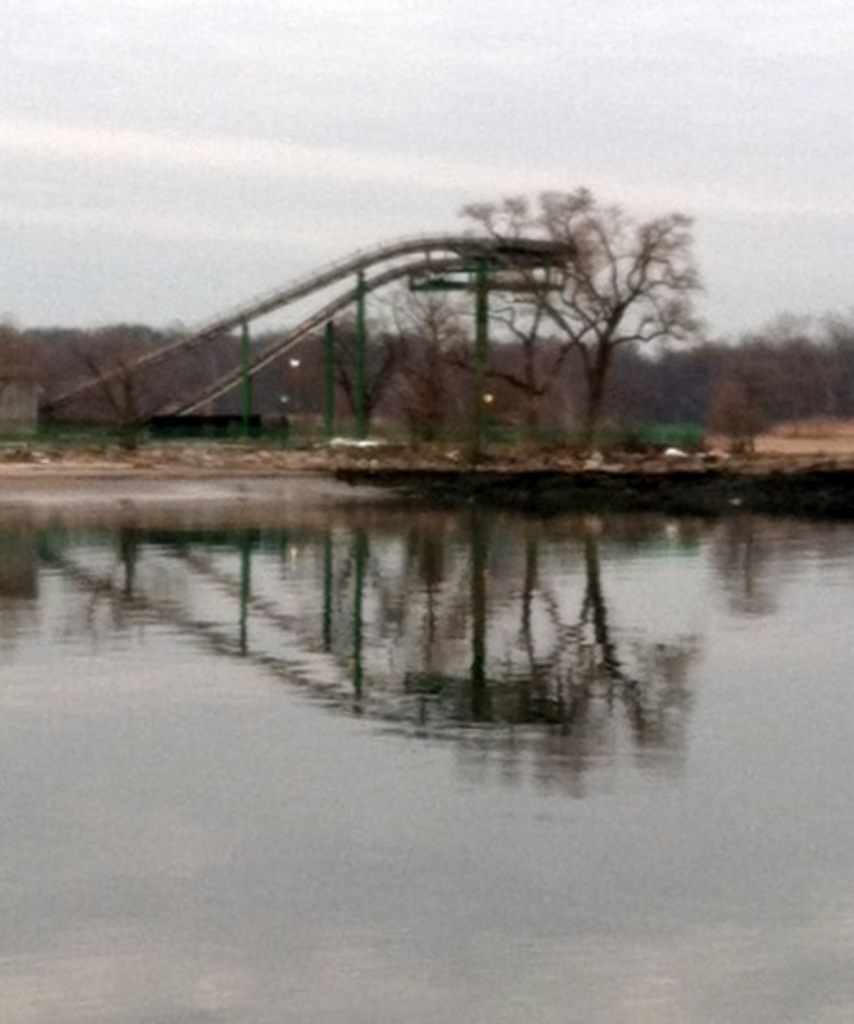Tree: (331, 163, 728, 462)
